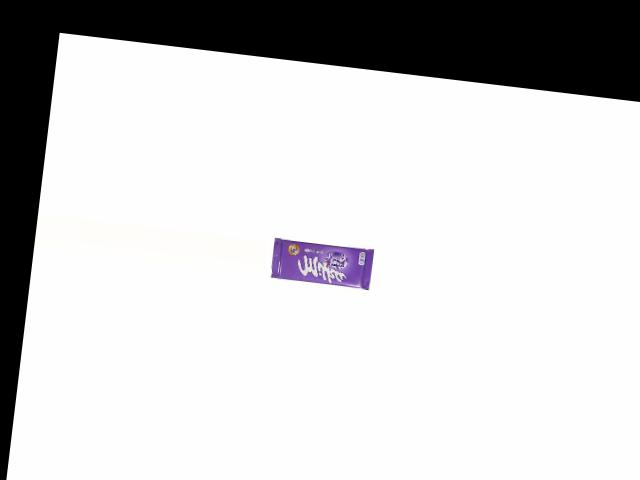chocolate: (269, 232, 380, 292)
